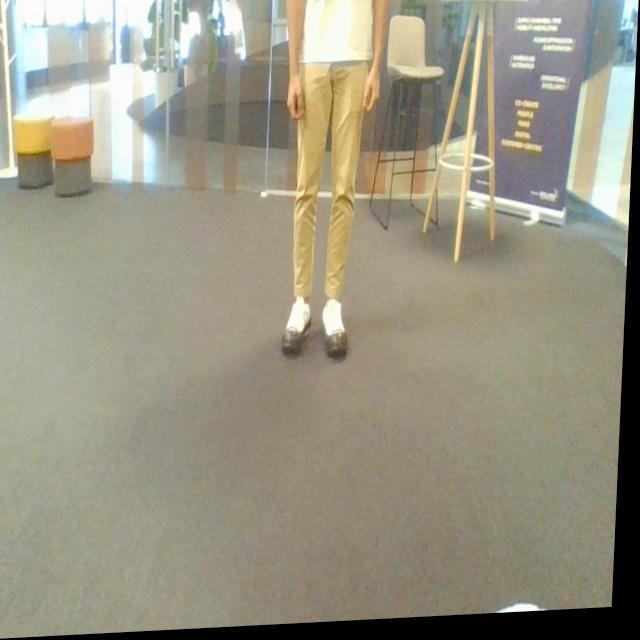shoes: (314, 296, 354, 363), (274, 295, 316, 353)
